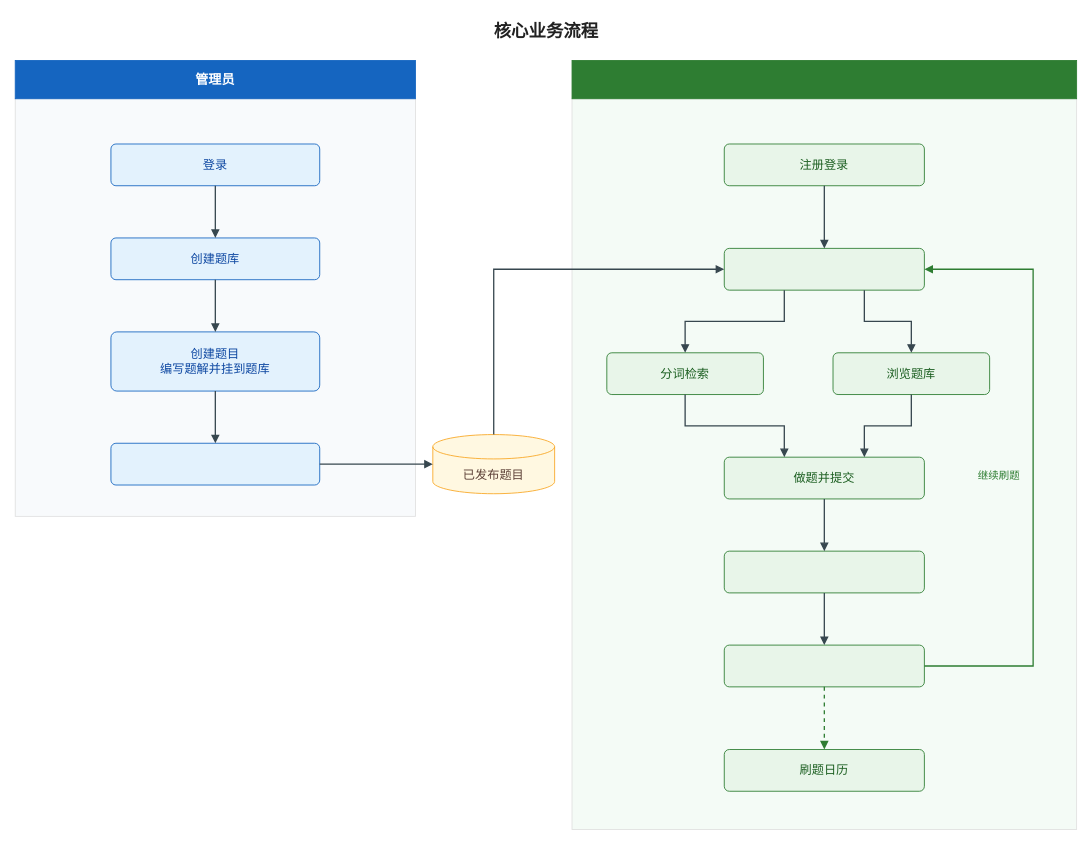
Image size: 1092x845. Some labels were removed from this diagram. Here are the shapes that lost their labels. From the top down, the box of each, then its label:
(571, 60, 1077, 99): 用户
(723, 248, 924, 290): 发现题目
(110, 442, 320, 485): 发布
(723, 550, 924, 593): 查看题解
(723, 644, 924, 687): 标记掌握情况
